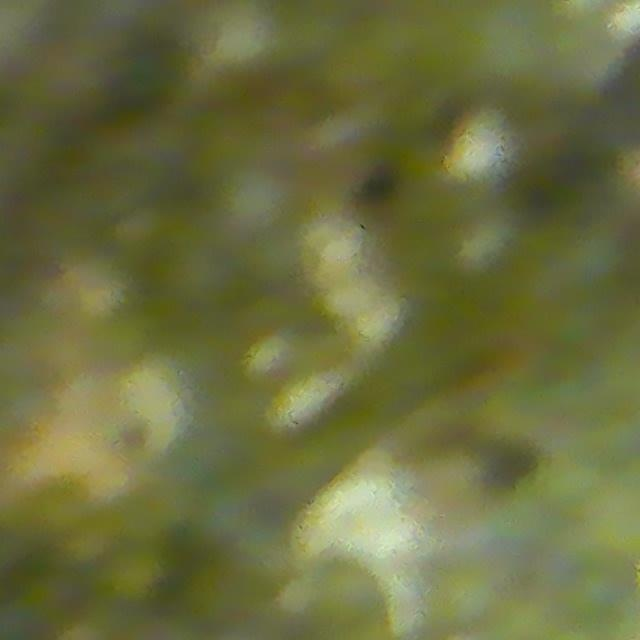SeaGrape: (215, 162, 290, 240), (103, 540, 174, 609)
